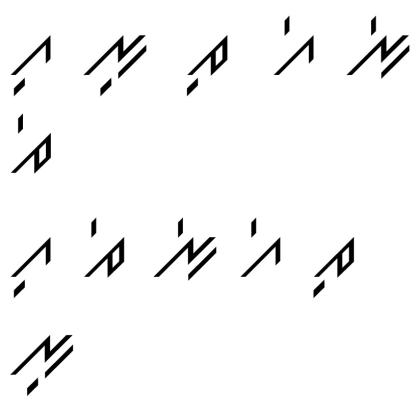ge: (268, 15, 318, 80), (235, 213, 284, 279)
gu: (7, 229, 55, 299), (9, 34, 56, 97)
nge: (340, 13, 412, 80), (149, 212, 218, 281)
ngu: (79, 25, 151, 97), (6, 328, 76, 397)
te: (78, 214, 129, 286), (7, 112, 58, 178)
tu: (309, 232, 360, 300), (185, 34, 233, 96)
